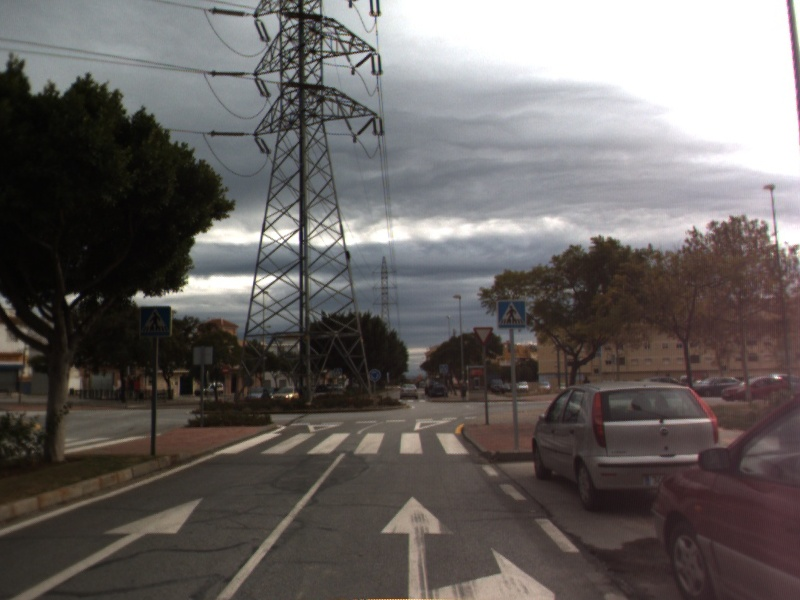STRAIGHT: (7, 493, 208, 600)
STRAIGHT_RIGHT: (377, 493, 560, 600)
